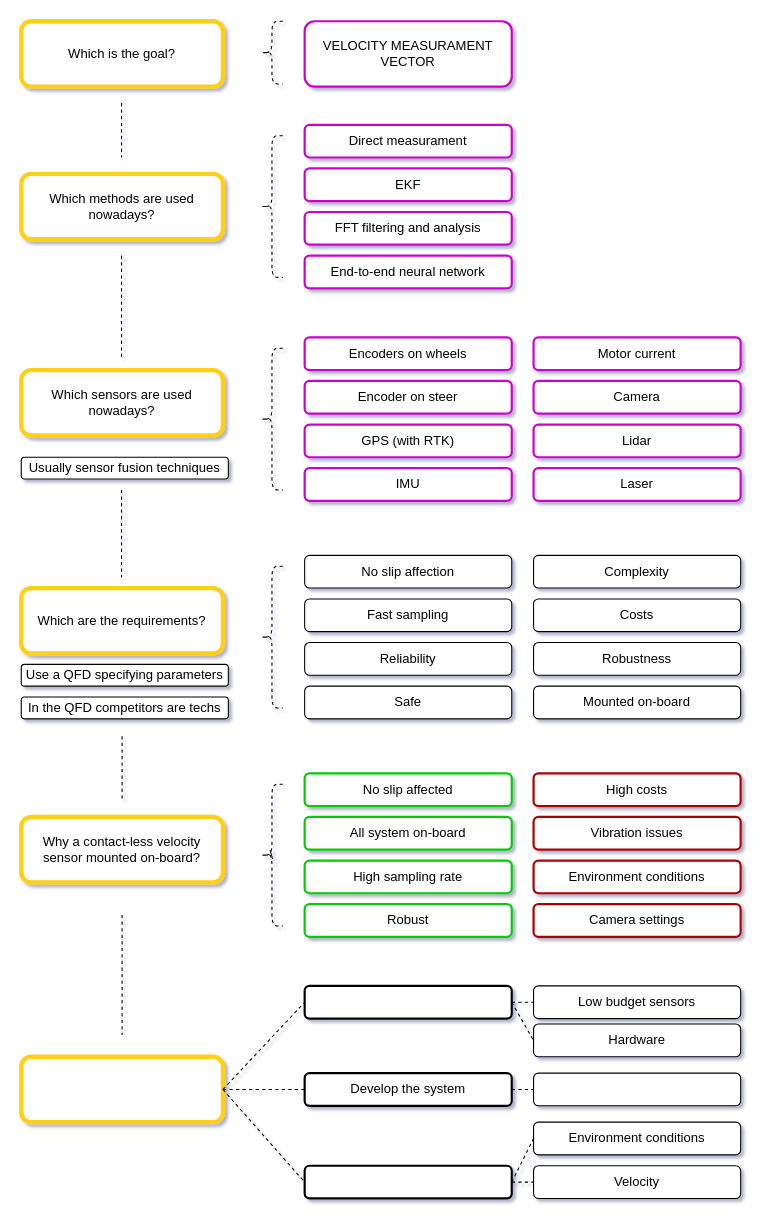
Some shapes in this 766 by 1224 pixel diagram are drawn without their labels. The shapes that lost their labels are listed below. From the top down, each one's centre as x and y in pixels, then its label:
the point at 407,1001: Reduce costs
the point at 122,1089: The detailed goals to improve the contactl-ess velocity measurament
the point at 636,1089: Software
the point at 407,1181: Auto camera params setting
